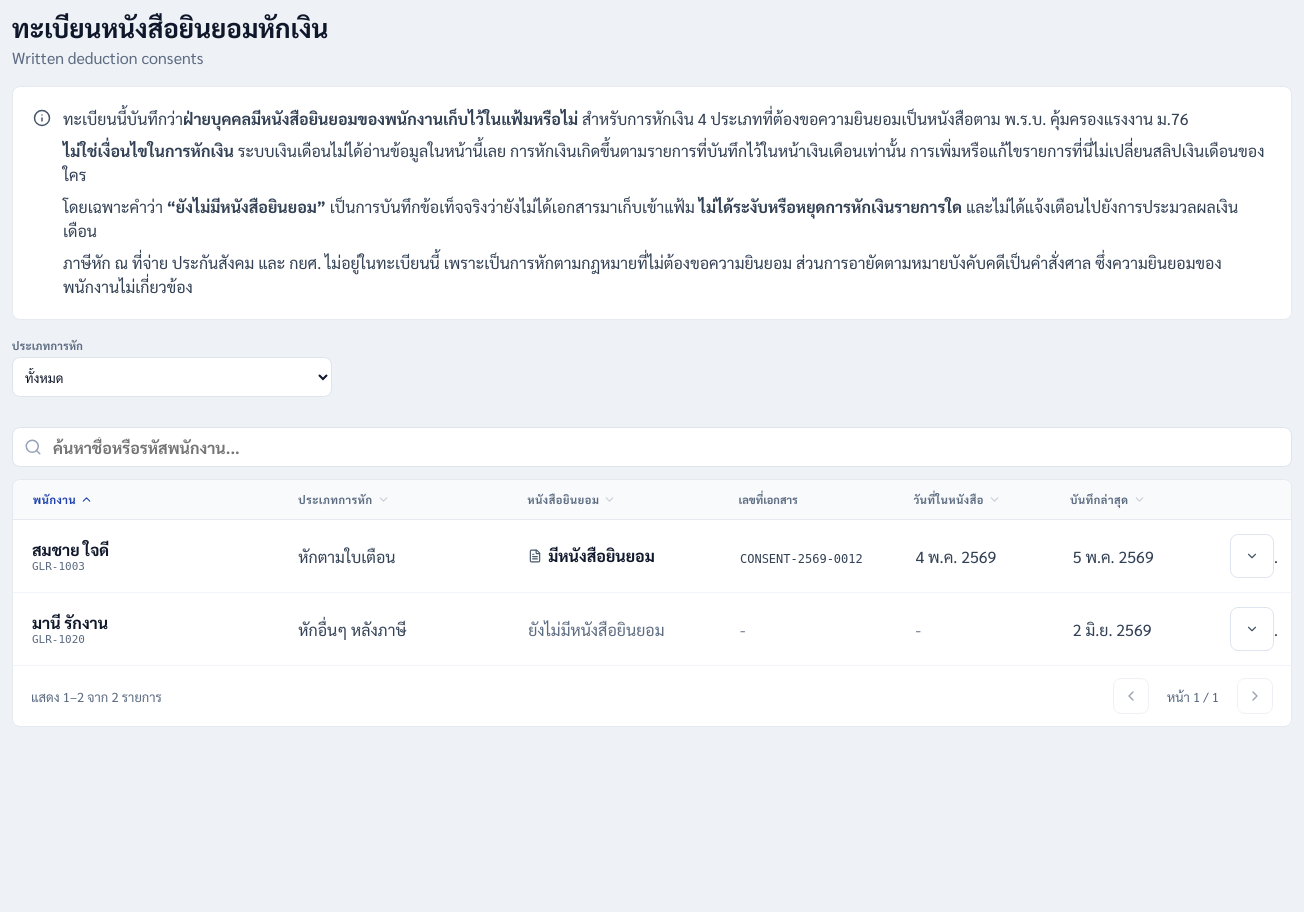
Test: DeductionConsentsPage › keeps HR notes reachable on desktop behind a per-row disclosure
Expected: the text "สมชาย ใจดี" is shown, [32,539,109,560]
Expected: the text "รอเซ็นกลับ" is not shown
Step 1. Click the button named "ดูหมายเหตุของ มานี รักงาน" → (1252, 629), box [1230,607,1274,651]
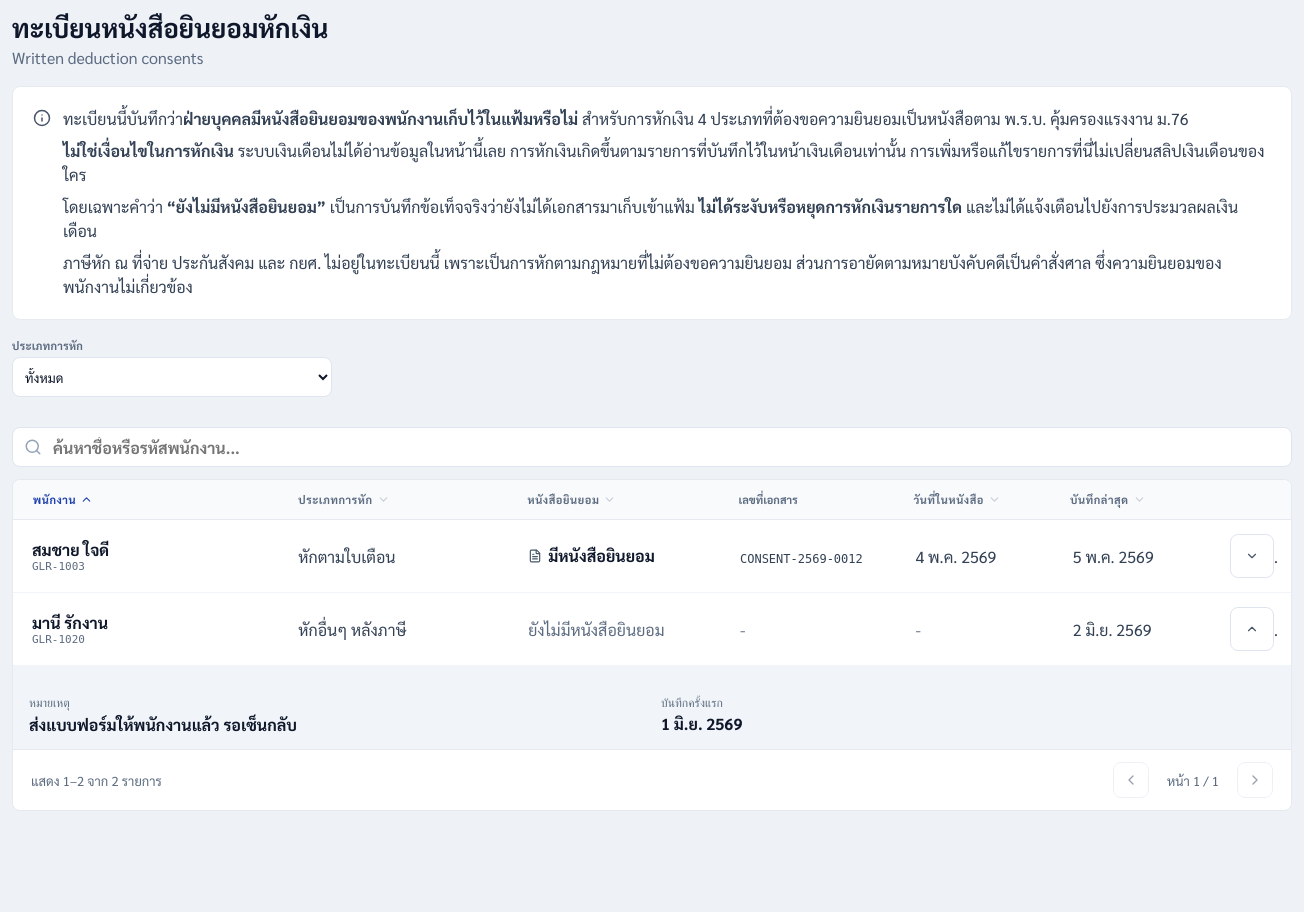
Expected: the text "ส่งแบบฟอร์มให้พนักงานแล้ว รอเซ็นกลับ" is shown, [29,714,297,735]
